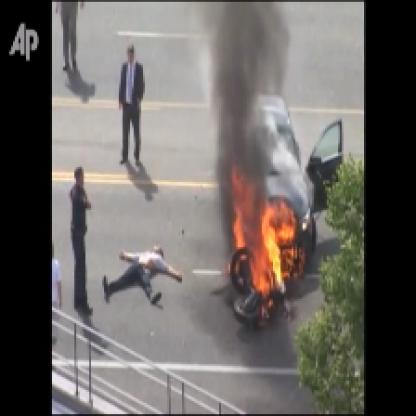Fire: (230, 169, 292, 301)
Smoke: (208, 2, 273, 217)
